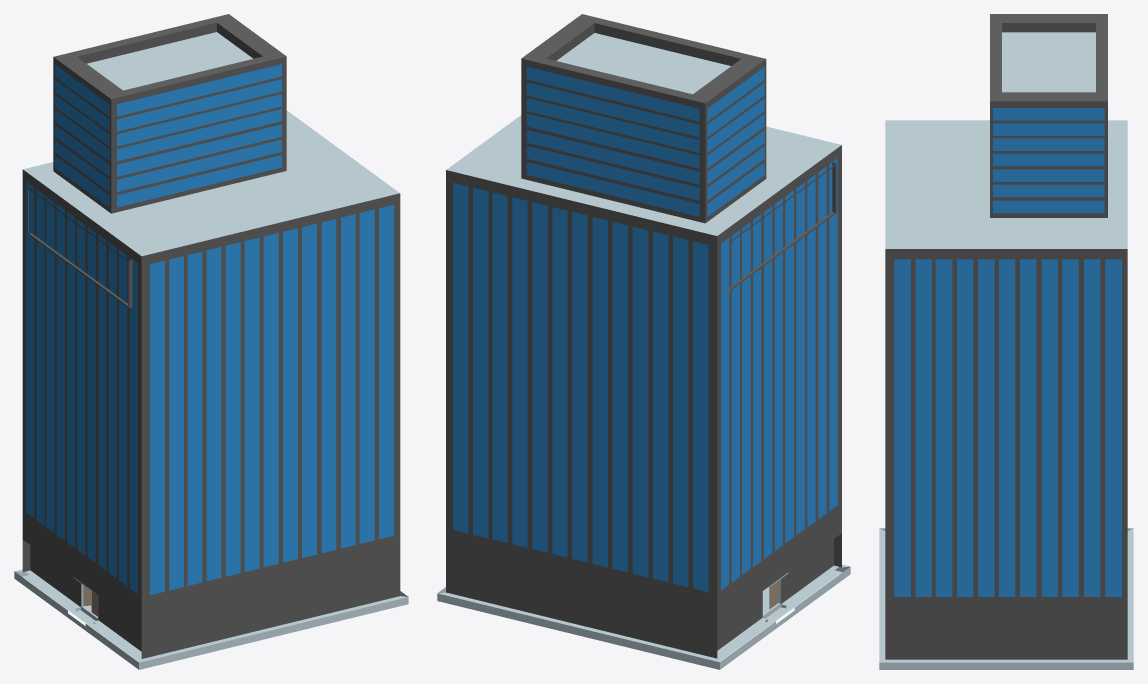
File: Cynet_building (1).fbx
The picture shows the model from 3 angles, left to right: view 1: azimuth 30°, elevation 25°; view 2: azimuth 150°, elevation 25°; view 3: azimuth 270°, elevation 25°; orthographic projection. The views are drawn at different scales.
Parts seen in each view (by area): view 1: Skyscraper4.001, Skyscraper4; view 2: Skyscraper4.001, Skyscraper4; view 3: Skyscraper4.001, Skyscraper4.
Boxes of the visible parts, x1,y1,x2,y2 form: Skyscraper4.001: [14, 14, 408, 669]; Skyscraper4: [22, 545, 141, 662]; Skyscraper4.001: [437, 14, 850, 669]; Skyscraper4: [446, 539, 841, 661]; Skyscraper4.001: [879, 14, 1133, 669]; Skyscraper4: [880, 532, 1132, 662].
Size of the model in its own units: 480 by 893 by 385.
